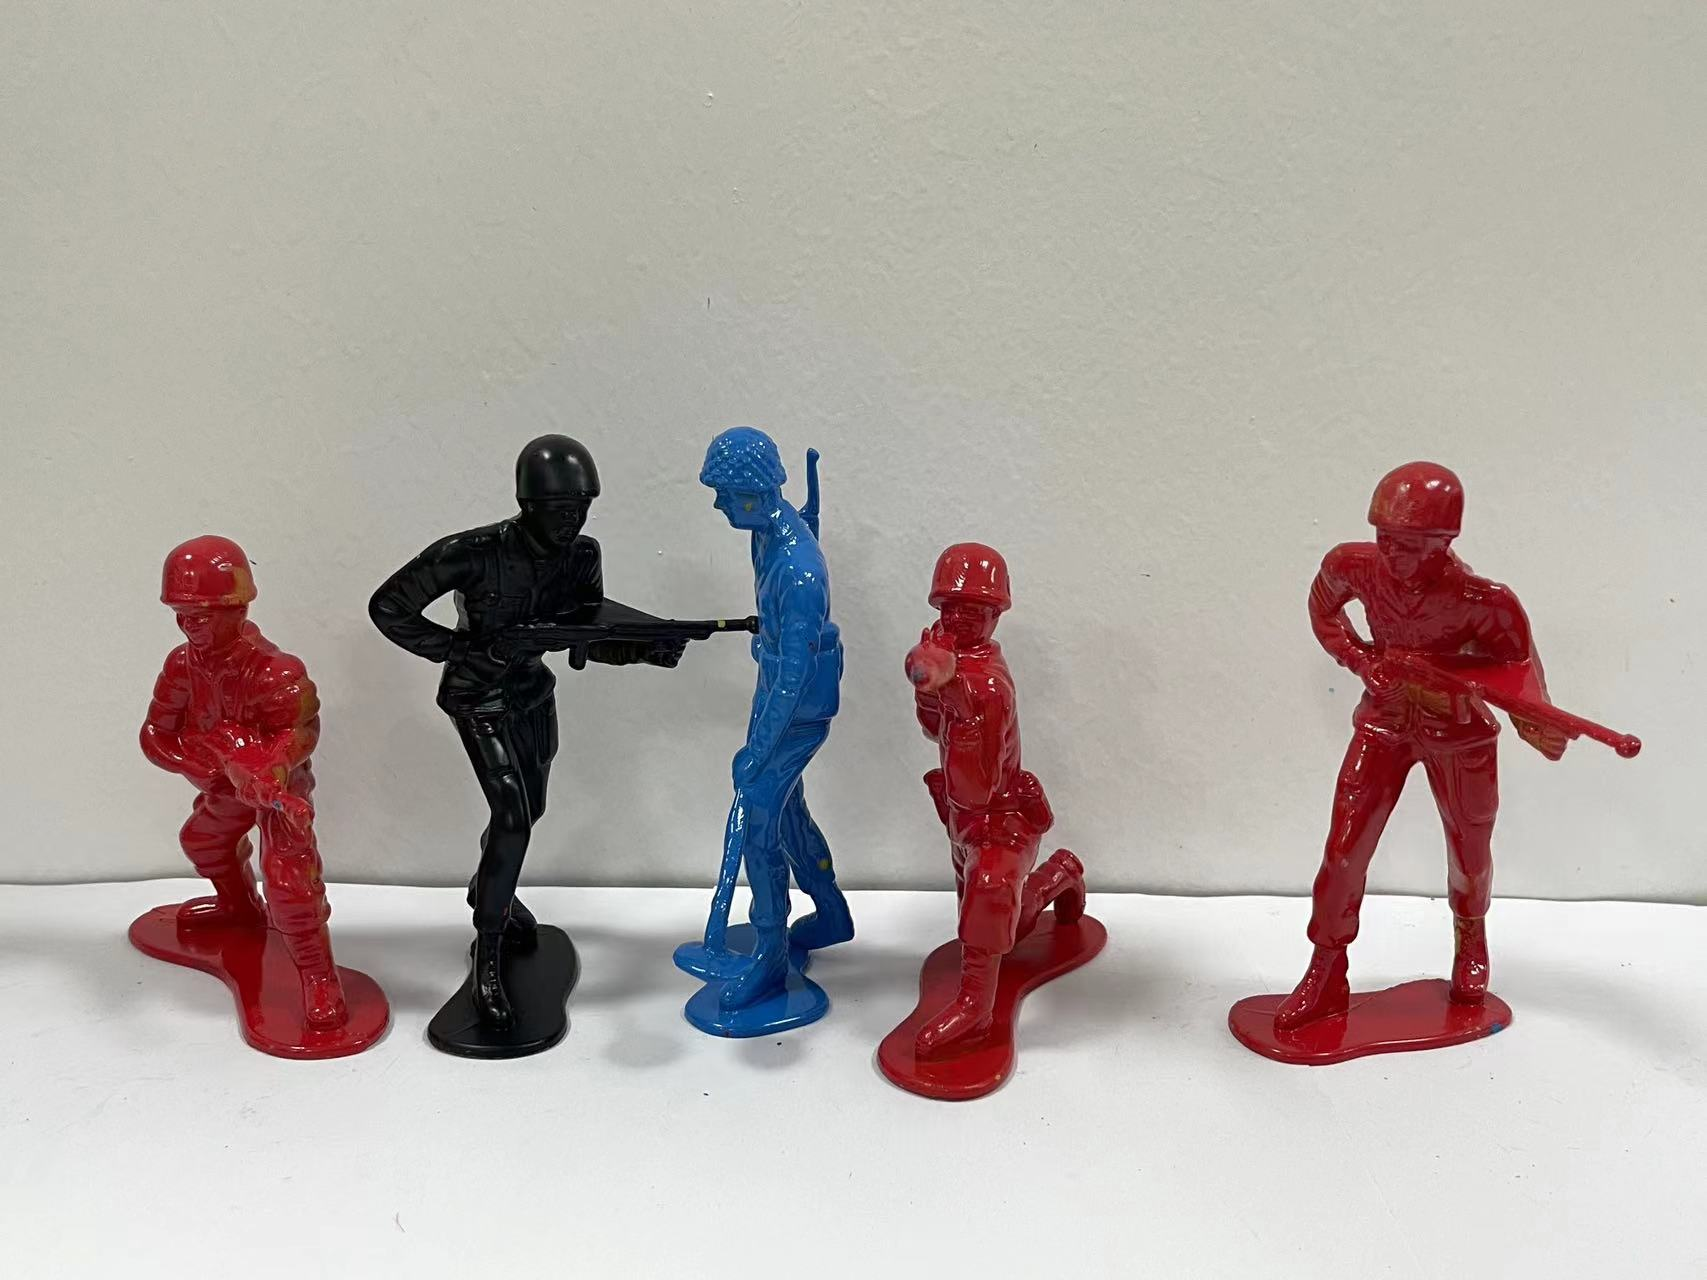black: (374, 394, 676, 1104)
blue: (676, 415, 886, 1111)
red: (1229, 403, 1640, 1129), (871, 507, 1152, 1113), (121, 484, 355, 1074)
